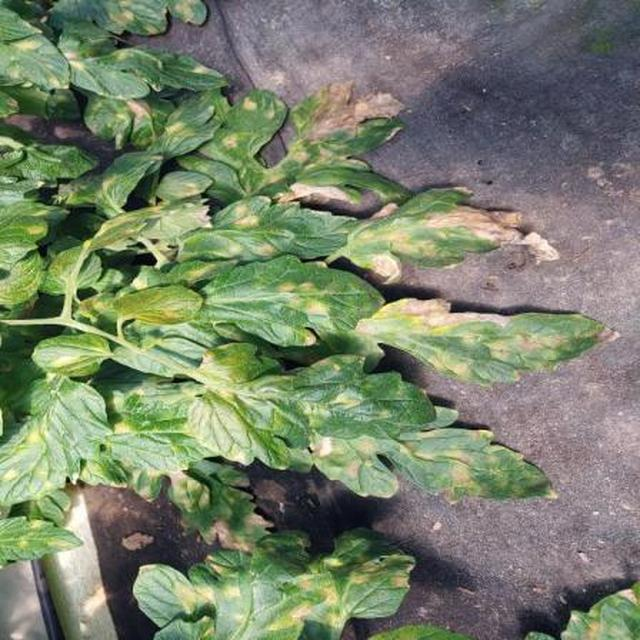Leaf Mold: (65, 67, 640, 640)
